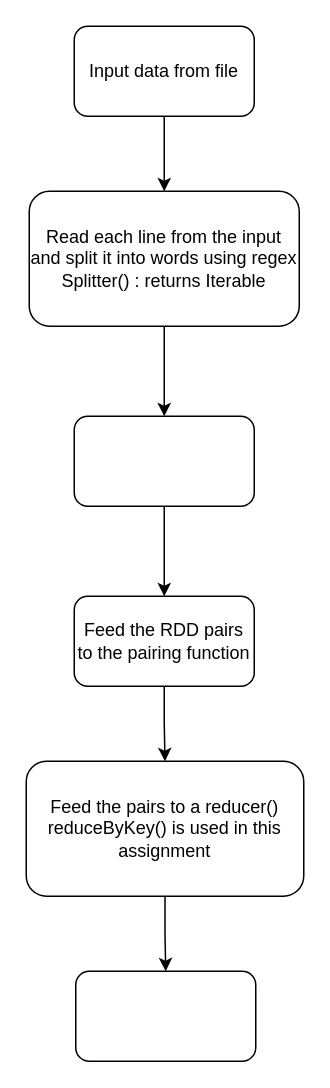
This 330x1088 diagram has some shape labels left out. Here are the shapes that lost their labels. From the top down, the centre of each, then its label:
(163,460): Feed the iterable into the Mapper function
(165,1015): Collect/combine the results of the reducer and send it to an outputstream
